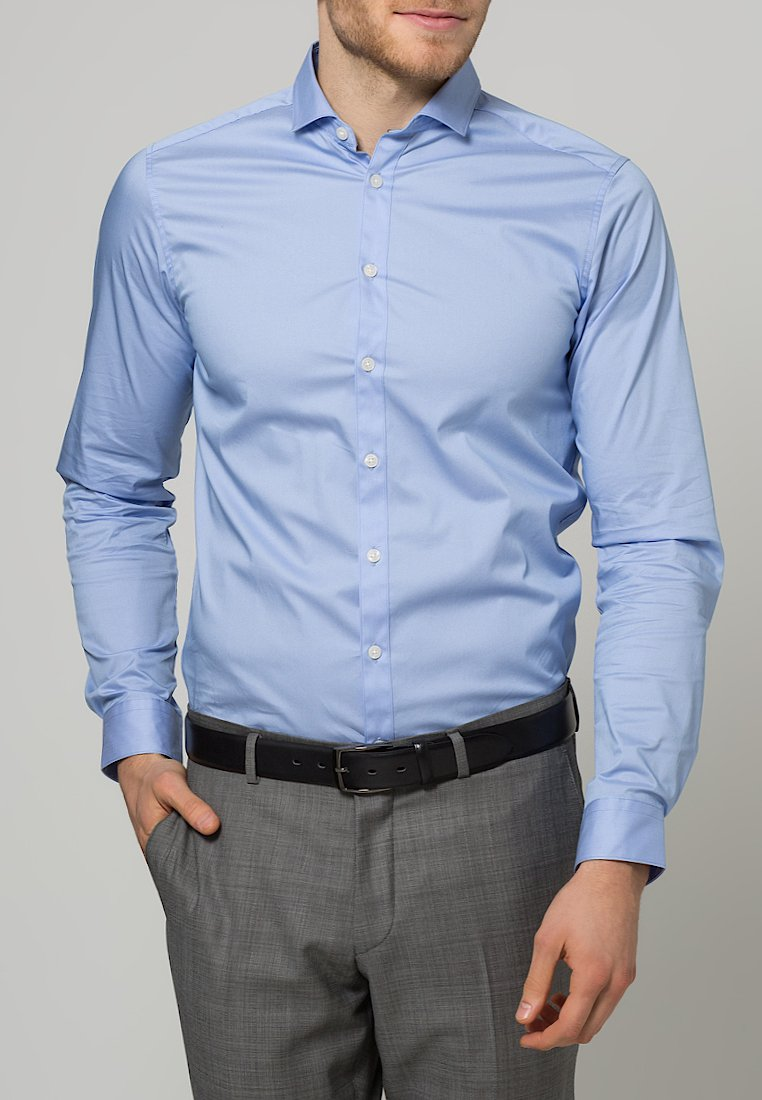F_belt: (170, 706, 578, 807)
F_dress pants: (121, 728, 609, 1100)
F_shirt: (94, 30, 723, 890)
